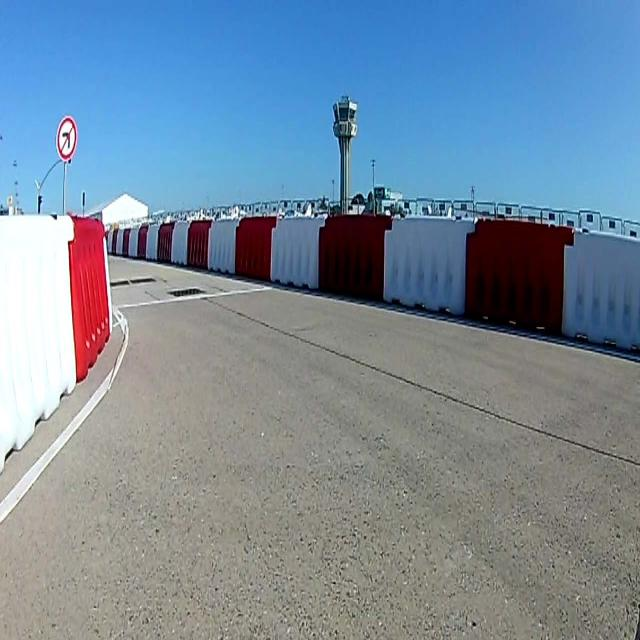soladonulmez: (56, 118, 77, 161)
